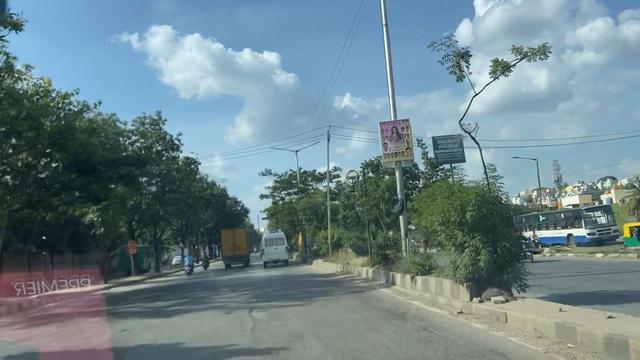HMV: (217, 224, 250, 270), (263, 231, 289, 270)
LMV: (186, 253, 198, 275)
